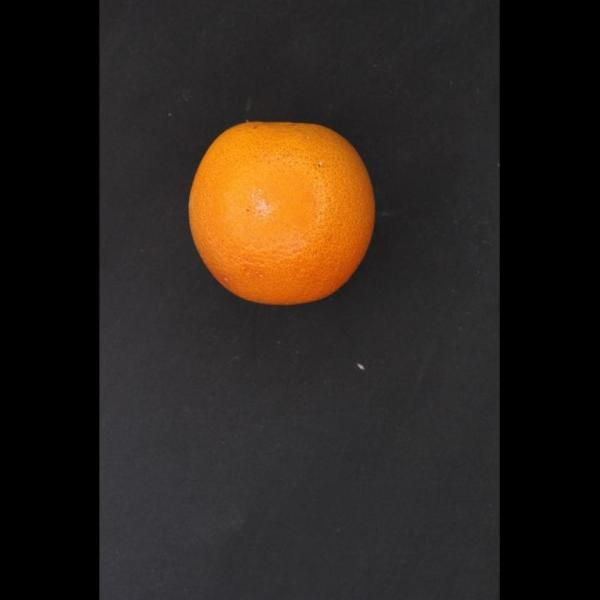Moho verde: (185, 105, 389, 329)
